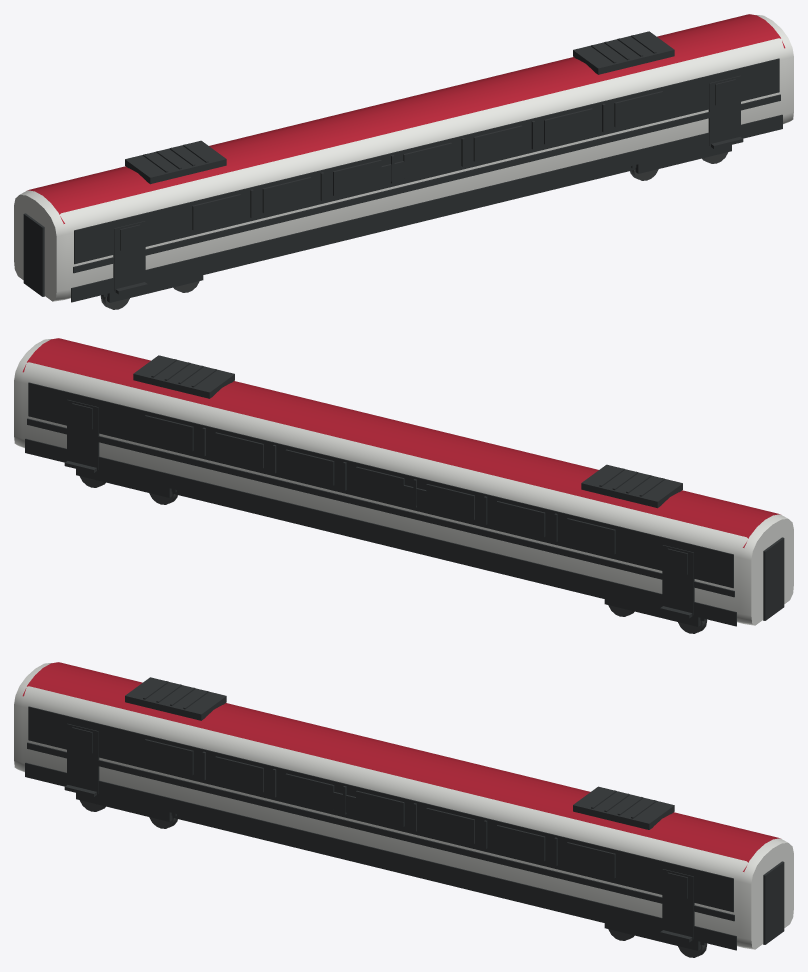
File: railjet-classic-restaurant.glb
3 views of the same model, one above another, from view 1: azimuth 30°, elevation 25°; view 2: azimuth 150°, elevation 25°; view 3: azimuth 330°, elevation 25° (orthographic).
Visible parts, largest first — view 1: railjet_restaurant_lofted_body, restaurant_red_roof, restaurant_window_band_-1, restaurant_lower_skirt_-1, restaurant_red_belt_-1, restaurant_hvac_1, restaurant_underframe_spine, restaurant_hvac_0, gangway_1.001, restaurant_door_-1_0, restaurant_door_-1_1, restaurant_window_-1_4 (+8 smaller); view 2: railjet_restaurant_lofted_body, restaurant_red_roof, restaurant_window_band_1, restaurant_lower_skirt_1, restaurant_red_belt_1, restaurant_hvac_1, restaurant_underframe_spine, restaurant_hvac_0, gangway_1.001, restaurant_door_1_0, restaurant_door_1_1, restaurant_bogie_b (+8 smaller); view 3: railjet_restaurant_lofted_body, restaurant_red_roof, restaurant_window_band_-1, restaurant_lower_skirt_-1, restaurant_red_belt_-1, restaurant_hvac_0, restaurant_underframe_spine, restaurant_hvac_1, gangway_0.001, restaurant_door_-1_1, restaurant_door_-1_0, restaurant_window_-1_0 (+8 smaller).
Part boxes in pixels (x1,y1,x2,y2): railjet_restaurant_lofted_body: [14, 15, 793, 301]; restaurant_red_roof: [27, 14, 785, 223]; restaurant_window_band_-1: [74, 58, 779, 264]; restaurant_lower_skirt_-1: [71, 114, 782, 302]; restaurant_red_belt_-1: [73, 94, 780, 273]; restaurant_hvac_1: [573, 31, 674, 74]; restaurant_underframe_spine: [203, 166, 635, 274]; restaurant_hvac_0: [125, 140, 226, 184]; gangway_1.001: [23, 213, 44, 296]; restaurant_door_-1_0: [113, 221, 145, 291]; restaurant_door_-1_1: [708, 75, 740, 145]; restaurant_window_-1_4: [473, 125, 522, 161]; railjet_restaurant_lofted_body: [14, 339, 793, 625]; restaurant_red_roof: [22, 338, 780, 547]; restaurant_window_band_1: [28, 382, 733, 588]; restaurant_lower_skirt_1: [25, 438, 736, 626]; restaurant_red_belt_1: [27, 418, 734, 597]; restaurant_hvac_1: [133, 355, 234, 398]; restaurant_underframe_spine: [172, 490, 604, 598]; restaurant_hvac_0: [581, 464, 682, 508]; gangway_1.001: [763, 537, 784, 620]; restaurant_door_1_0: [662, 545, 694, 615]; restaurant_door_1_1: [67, 399, 99, 469]; restaurant_bogie_b: [76, 469, 177, 504]; railjet_restaurant_lofted_body: [14, 663, 793, 949]; restaurant_red_roof: [22, 662, 780, 871]; restaurant_window_band_-1: [28, 706, 733, 912]; restaurant_lower_skirt_-1: [25, 762, 736, 950]; restaurant_red_belt_-1: [27, 742, 734, 921]; restaurant_hvac_0: [125, 677, 226, 720]; restaurant_underframe_spine: [172, 814, 604, 922]; restaurant_hvac_1: [573, 786, 674, 829]; gangway_0.001: [763, 861, 784, 944]; restaurant_door_-1_1: [662, 869, 694, 939]; restaurant_door_-1_0: [67, 723, 99, 793]; restaurant_window_-1_0: [144, 739, 193, 775].
Bounding box in the file's own units: 26.66 × 4.32 × 3.35.
